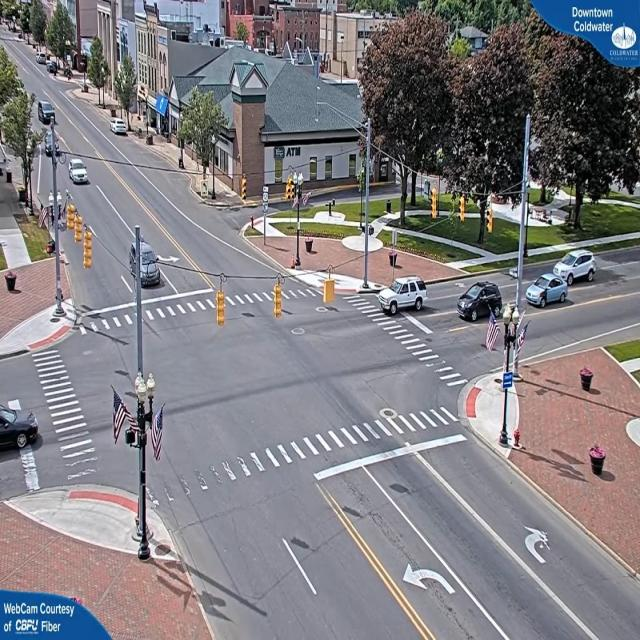car: (460, 280, 504, 324), (554, 250, 600, 286), (381, 278, 427, 313), (526, 271, 569, 307), (69, 159, 90, 185), (112, 121, 129, 136)
